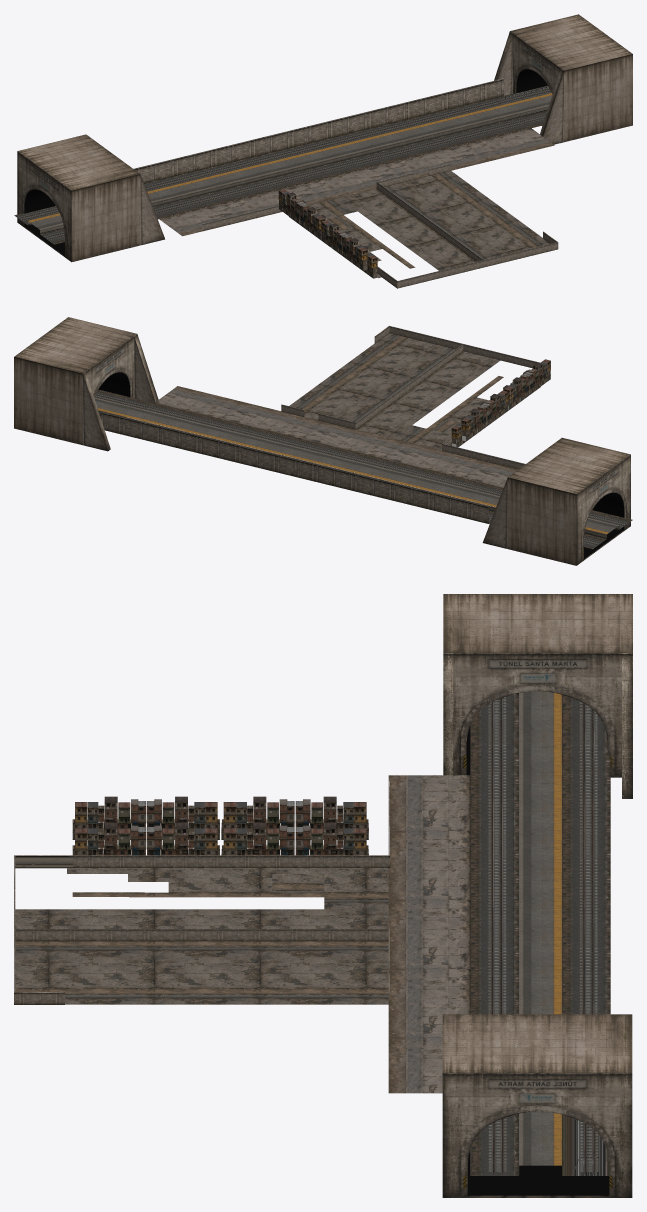
File: cenario.glb
3 renders of one model, top to bottom at view 1: azimuth 30°, elevation 25°; view 2: azimuth 150°, elevation 25°; view 3: azimuth 270°, elevation 25°, orthographic. The views are drawn at different scales.
Parts seen in each view (by area): view 1: Plane.081, Cube.051, Cube.050, Plane.075, Plane.082, Plane.076, Plane.080, Plane.070, Plane.065, Plane.077, Cube.040, Cube.037 (+6 smaller); view 2: Plane.081, Cube.050, Cube.051, Plane.082, Plane.075, Plane.076, Plane.070, Plane.065, Cube.036, Cube.039, Cube.040, Cube.037 (+2 smaller); view 3: Plane.081, Cube.050, Cube.051, Plane.075, Plane.076, Plane.080, Plane.070, Plane.077, Plane.065, Cube.010, Cube.024, Cube.019 (+10 smaller).
Part boxes in pixels (x1=…): Plane.081: x1=159, y1=128, x2=554, y2=278; Cube.051: x1=17, y1=134, x2=164, y2=262; Cube.050: x1=494, y1=14, x2=632, y2=144; Plane.075: x1=27, y1=93, x2=552, y2=234; Plane.082: x1=133, y1=78, x2=503, y2=183; Plane.076: x1=40, y1=111, x2=546, y2=244; Plane.080: x1=14, y1=85, x2=551, y2=224; Plane.070: x1=202, y1=163, x2=558, y2=288; Plane.065: x1=155, y1=120, x2=525, y2=213; Plane.077: x1=145, y1=101, x2=499, y2=190; Cube.040: x1=341, y1=234, x2=367, y2=270; Cube.037: x1=299, y1=203, x2=325, y2=239; Plane.081: x1=154, y1=333, x2=517, y2=488; Cube.050: x1=14, y1=317, x2=158, y2=451; Cube.051: x1=482, y1=437, x2=630, y2=565; Plane.082: x1=101, y1=412, x2=488, y2=523; Plane.075: x1=94, y1=397, x2=619, y2=538; Plane.076: x1=94, y1=389, x2=632, y2=529; Plane.070: x1=281, y1=326, x2=539, y2=469; Plane.065: x1=145, y1=406, x2=501, y2=495; Cube.036: x1=461, y1=405, x2=487, y2=441; Cube.039: x1=504, y1=373, x2=530, y2=409; Cube.040: x1=525, y1=359, x2=550, y2=394; Cube.037: x1=482, y1=390, x2=508, y2=425; Plane.081: x1=15, y1=775, x2=470, y2=1093; Cube.050: x1=442, y1=1014, x2=632, y2=1197; Cube.051: x1=443, y1=594, x2=632, y2=798; Plane.075: x1=519, y1=691, x2=562, y2=1166; Plane.076: x1=470, y1=694, x2=519, y2=1175; Plane.080: x1=562, y1=695, x2=610, y2=1175; Plane.070: x1=14, y1=780, x2=389, y2=1004; Plane.077: x1=579, y1=773, x2=597, y2=1014; Plane.065: x1=488, y1=773, x2=506, y2=1014; Cube.010: x1=221, y1=822, x2=294, y2=855; Cube.024: x1=295, y1=822, x2=368, y2=855; Cube.019: x1=146, y1=822, x2=219, y2=855.
Bounding box in the file's own units: 1008 × 120 × 538.
Materials: 18 (17 with a texture image).
